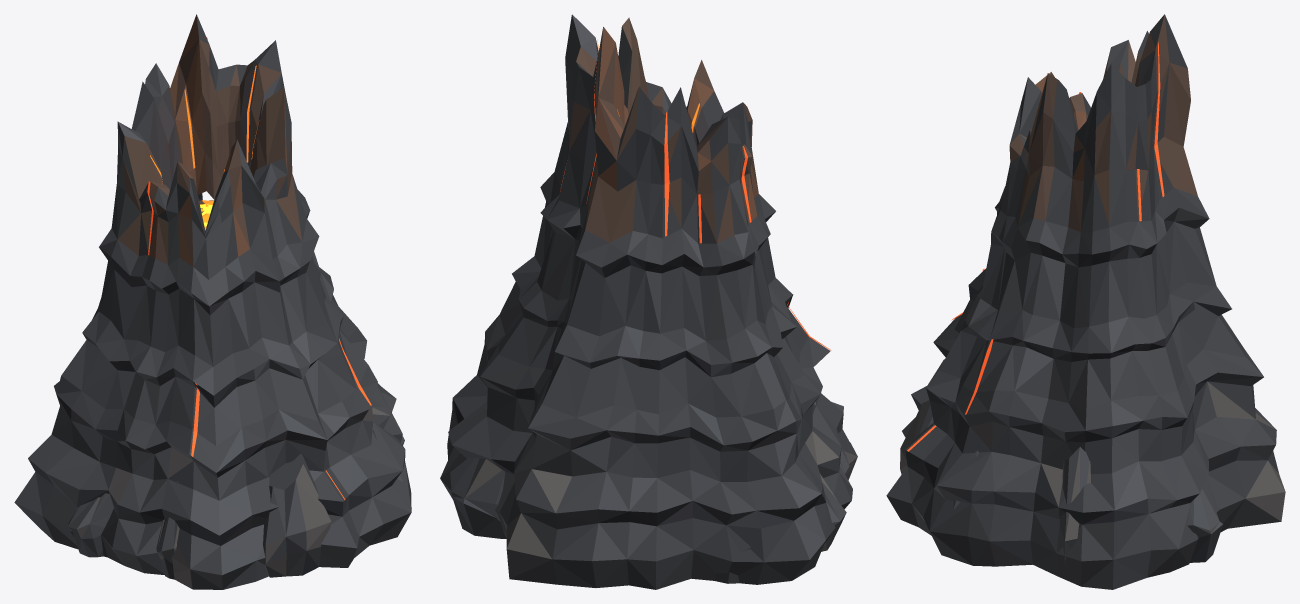
The model's file is thermal_vent_chimney.glb.
3 views of the same model, side by side, from view 1: azimuth 30°, elevation 25°; view 2: azimuth 150°, elevation 25°; view 3: azimuth 270°, elevation 25° (orthographic). The views are drawn at different scales.
Parts seen in each view (by area): view 1: thermal_vent_chimney; view 2: thermal_vent_chimney; view 3: thermal_vent_chimney.
Part boxes in pixels (x1=…): thermal_vent_chimney: x1=14, y1=14, x2=411, y2=589; thermal_vent_chimney: x1=440, y1=14, x2=857, y2=589; thermal_vent_chimney: x1=886, y1=14, x2=1285, y2=589.
Size of the model in its own units: 5 by 6.33 by 4.65.
